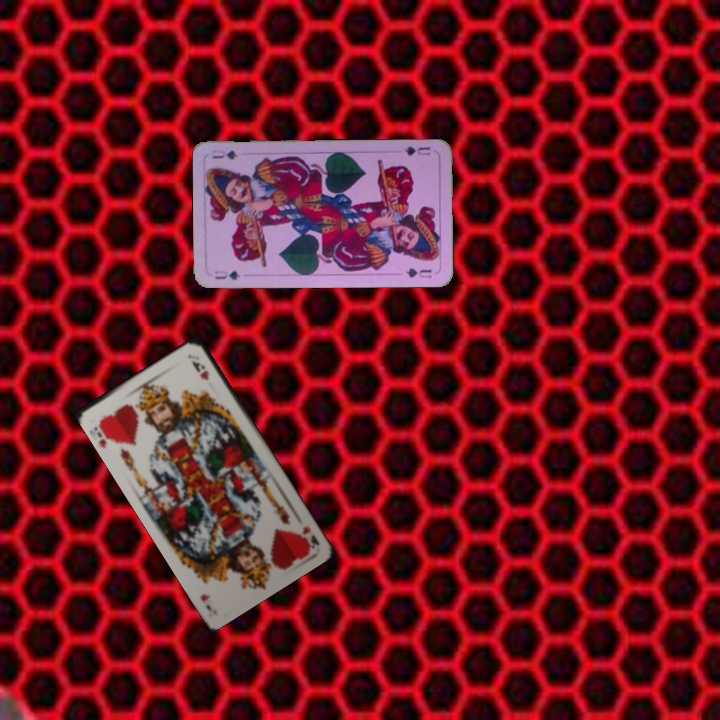GU: (400, 142, 432, 158), (211, 267, 243, 283)
HK: (90, 415, 119, 447), (295, 522, 322, 552)
